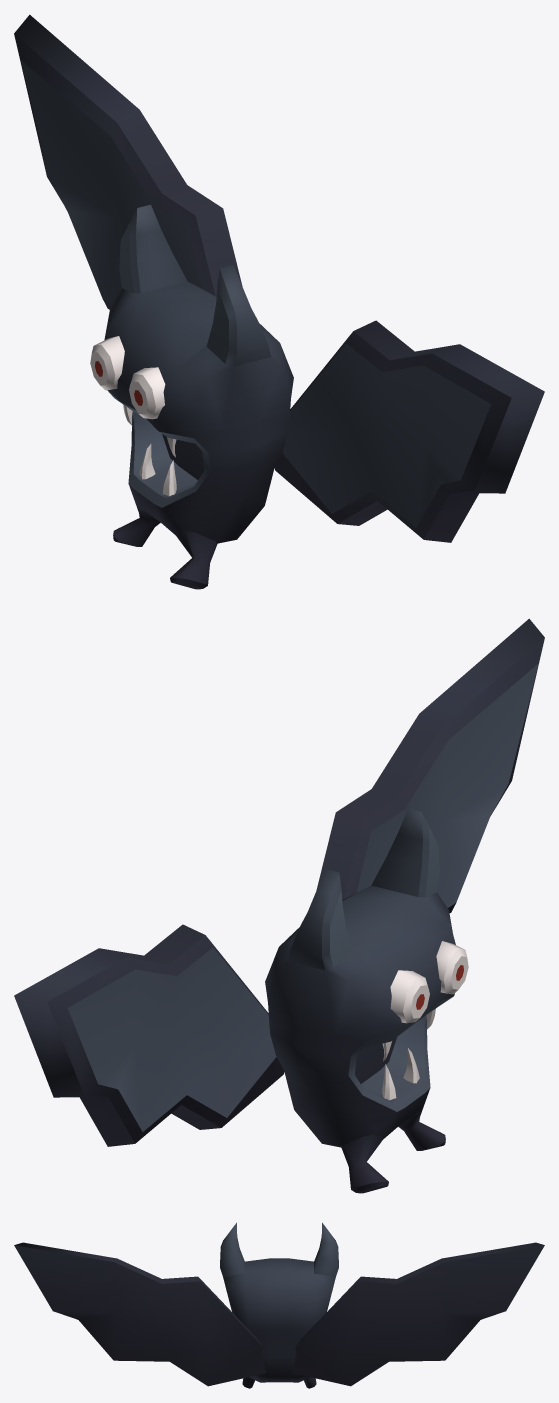
Rendered from Bat.obj.
The picture shows the model from 3 angles, top to bottom: view 1: azimuth 30°, elevation 25°; view 2: azimuth 150°, elevation 25°; view 3: azimuth 270°, elevation 25°; orthographic projection. The views are drawn at different scales.
Parts seen in each view (by area): view 1: Head, Wing.2L, Wing.2R, Shoulder.L, ShoulderR, Torso.D, Hip.L, Hip.R; view 2: Head, Wing.2R, Wing.2L, ShoulderR, Shoulder.L, Torso.D, Hip.R, Hip.L; view 3: Wing.2L, Wing.2R, Head, ShoulderR, Shoulder.L, Back, Hip.L.
Part boxes in pixels (bbox=[...]): Head: bbox=[90, 204, 293, 543]; Wing.2L: bbox=[372, 344, 544, 542]; Wing.2R: bbox=[14, 14, 186, 309]; Shoulder.L: bbox=[274, 320, 414, 525]; ShoulderR: bbox=[154, 185, 242, 295]; Torso.D: bbox=[128, 432, 203, 535]; Hip.L: bbox=[140, 507, 217, 589]; Hip.R: bbox=[113, 505, 160, 546]; Head: bbox=[265, 808, 468, 1147]; Wing.2R: bbox=[14, 948, 186, 1146]; Wing.2L: bbox=[372, 618, 544, 912]; ShoulderR: bbox=[144, 924, 284, 1129]; Shoulder.L: bbox=[316, 789, 404, 899]; Torso.D: bbox=[355, 1035, 430, 1139]; Hip.R: bbox=[341, 1135, 388, 1193]; Hip.L: bbox=[398, 1109, 445, 1150]; Wing.2L: bbox=[14, 1242, 169, 1361]; Wing.2R: bbox=[389, 1242, 544, 1361]; Head: bbox=[220, 1222, 338, 1375]; ShoulderR: bbox=[292, 1276, 396, 1386]; Shoulder.L: bbox=[162, 1276, 266, 1386]; Back: bbox=[249, 1313, 309, 1377]; Hip.L: bbox=[242, 1375, 309, 1388].
Size of the model in its own units: 0.2236 by 0.3843 by 1.07.
